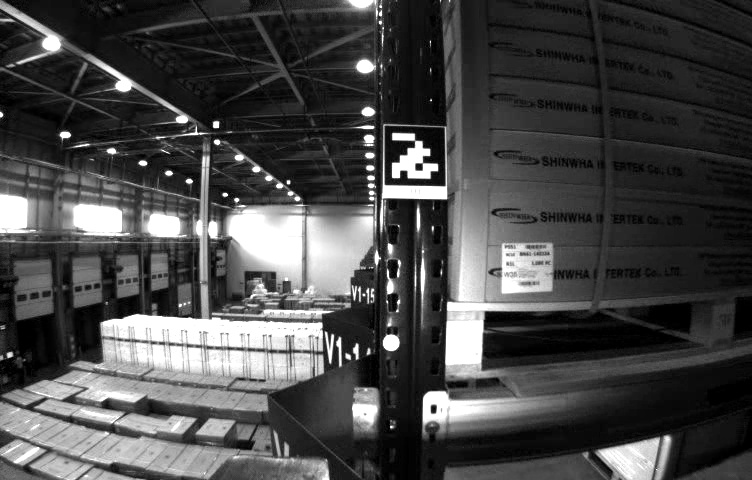True Barcode: (499, 241, 556, 291)
